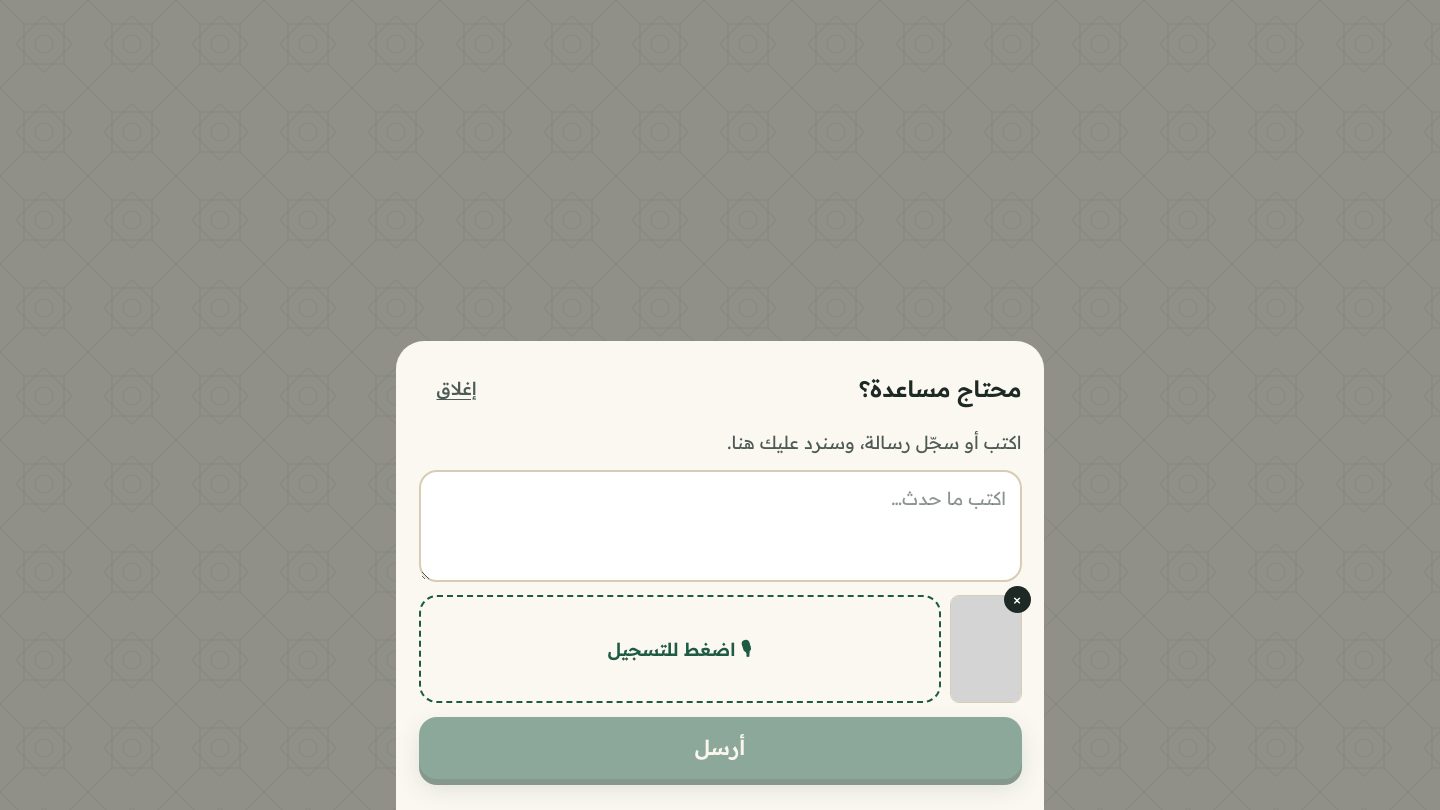
HelpSheet › sends without the screenshot once it's removed
The image size is (1440, 810).
Click the button named "إزالة الصورة": (1017, 600) x1=1004 y1=586 x2=1030 y2=613
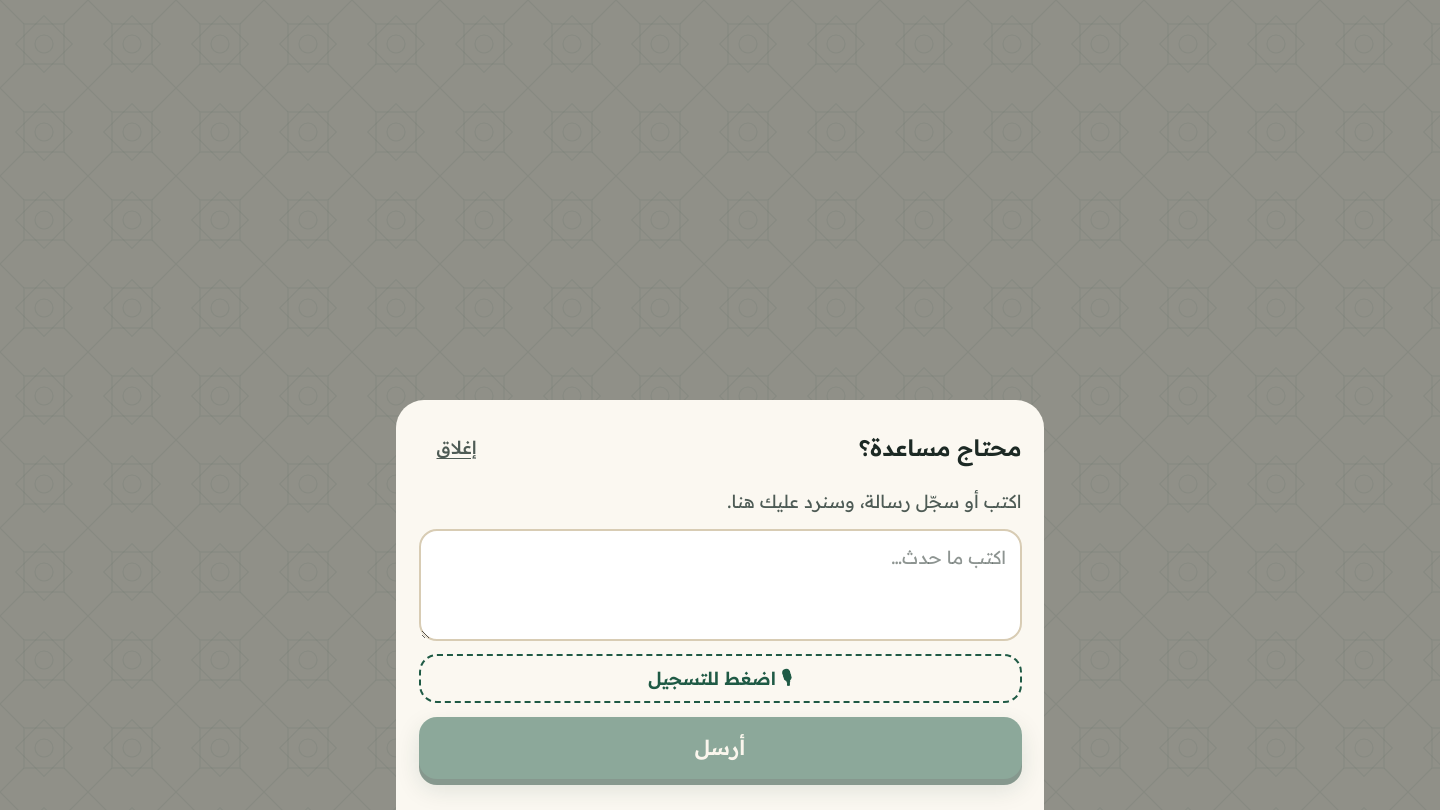
In the text box named "رسالتك": (720, 584) x1=418 y1=528 x2=1022 y2=640, type "مشكلة"
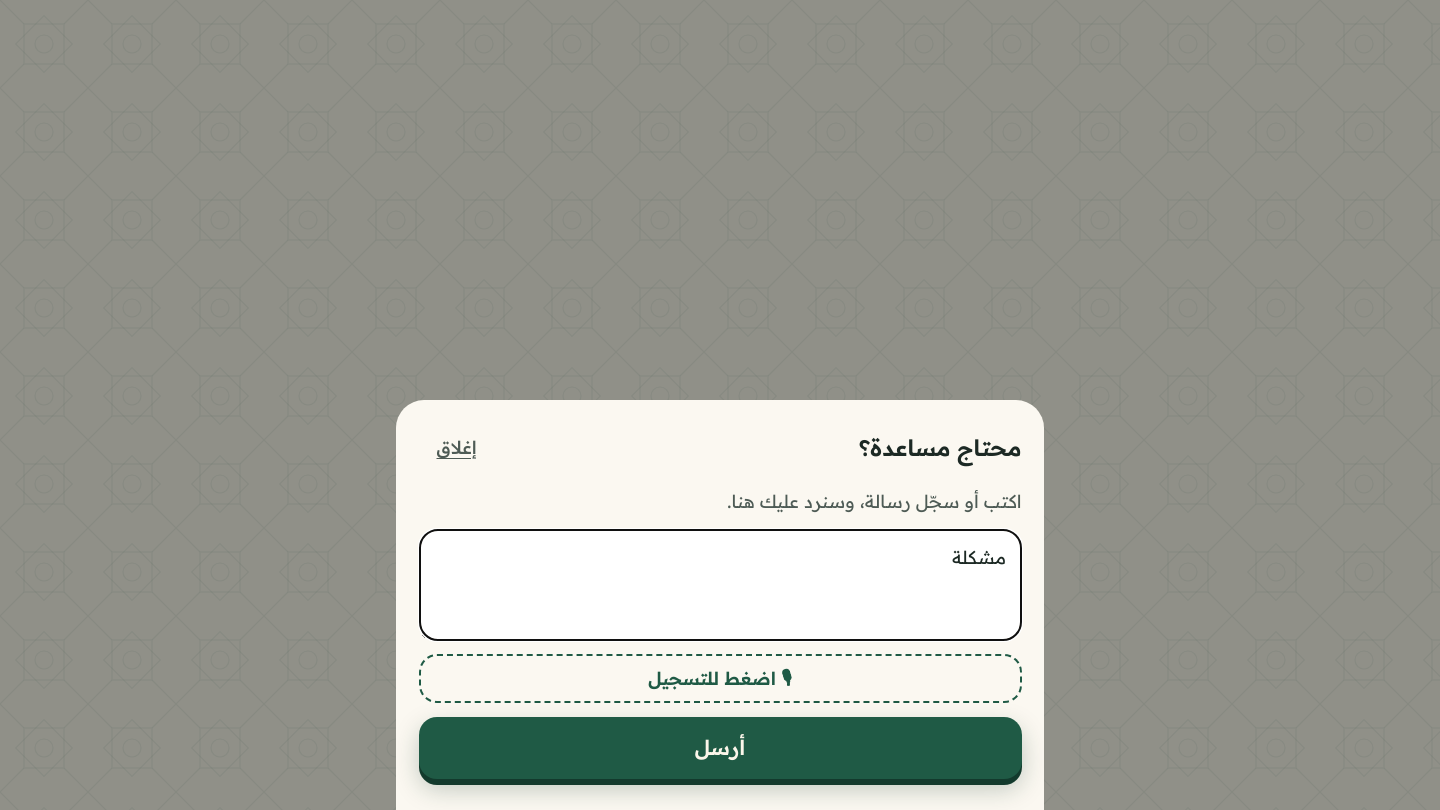
Click the button "أرسل": (720, 748) x1=418 y1=716 x2=1022 y2=778
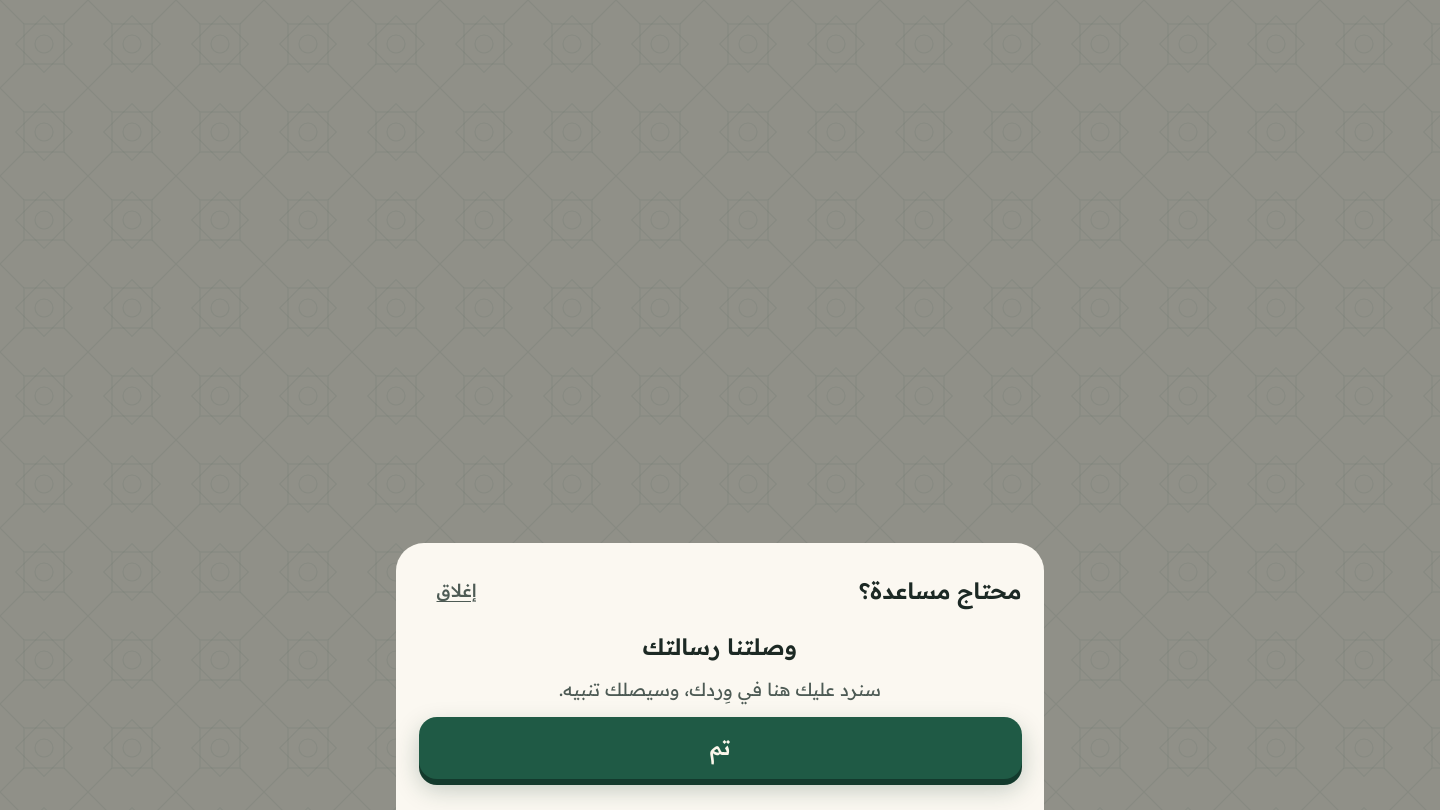
Expected: the text "وصلتنا رسالتك" is shown, x1=643 y1=632 x2=797 y2=661
